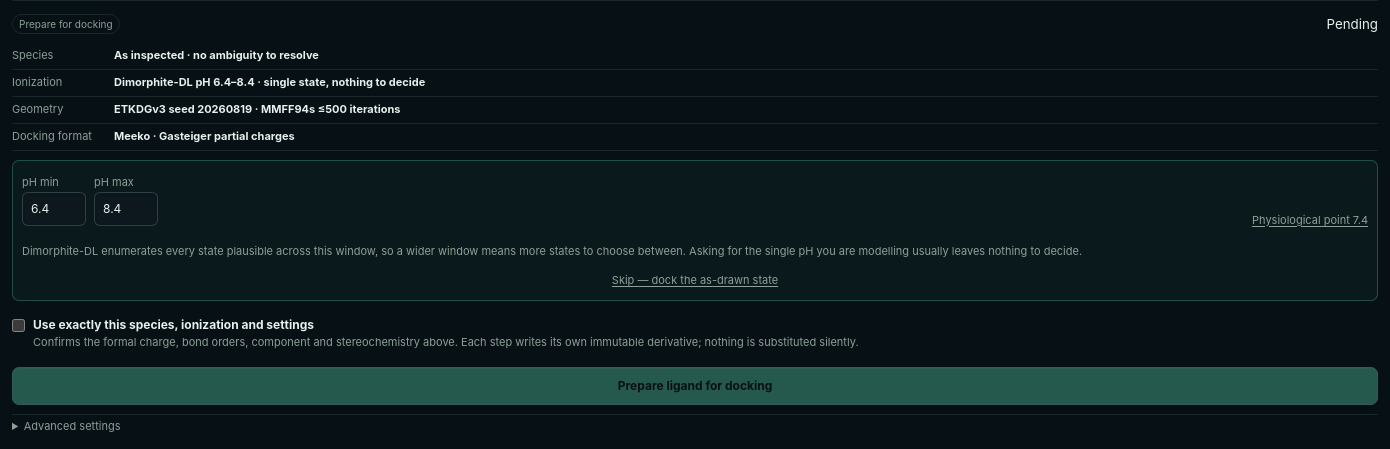
Scenario: never asks a question when only one state survived enumeration
Click the checkbox labelled "Use exactly this species". click: point(18, 326)
box: [12,319,25,332]
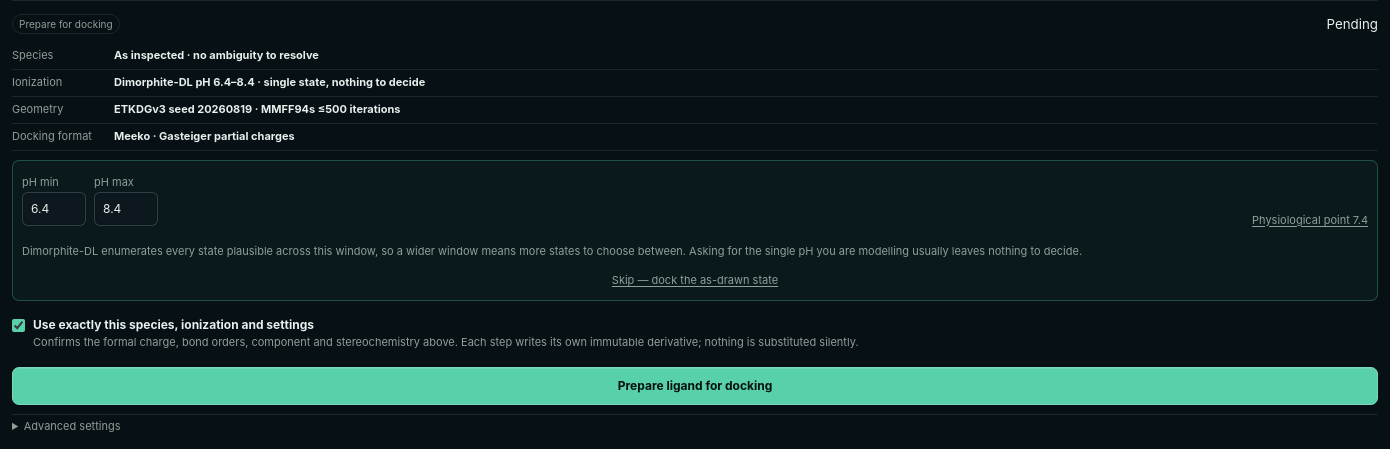
Expected: the button "Prepare ligand for docking" is enabled, [12,366,1378,404]
